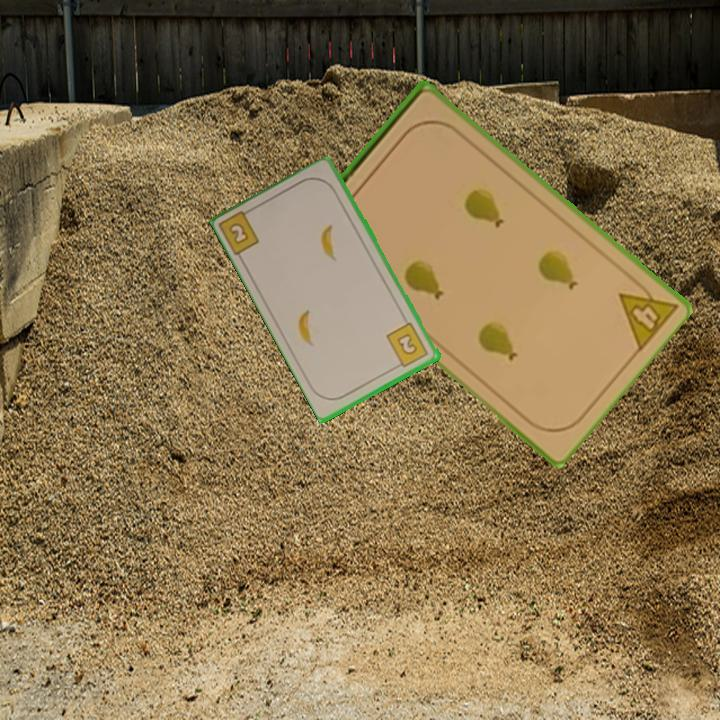2b: (217, 204, 263, 259), (383, 319, 431, 371)
4p: (615, 272, 681, 354)
